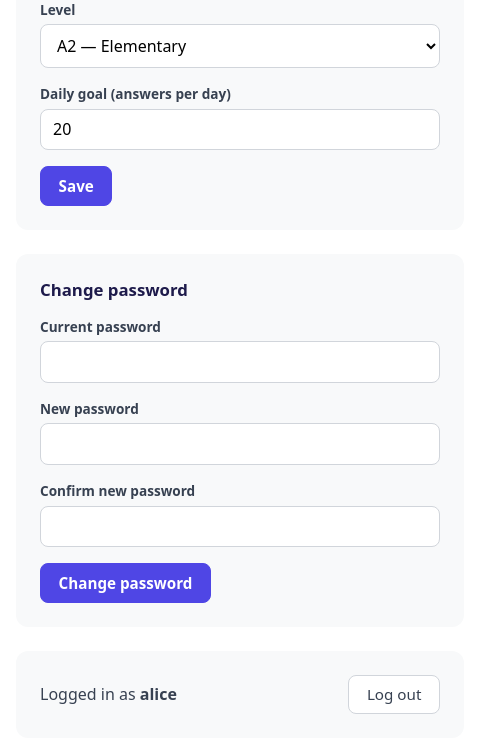
Test: top bar and settings › can log out from the settings page (the top bar hides it on phones)
The width and height of the screenshot is (481, 755).
(page scrolled)
expect the element named "Account" shows "Logged in as alice": met, box [16, 651, 464, 738]
Click the button "Log out": (394, 694) [348, 675, 440, 714]
(page scrolled)
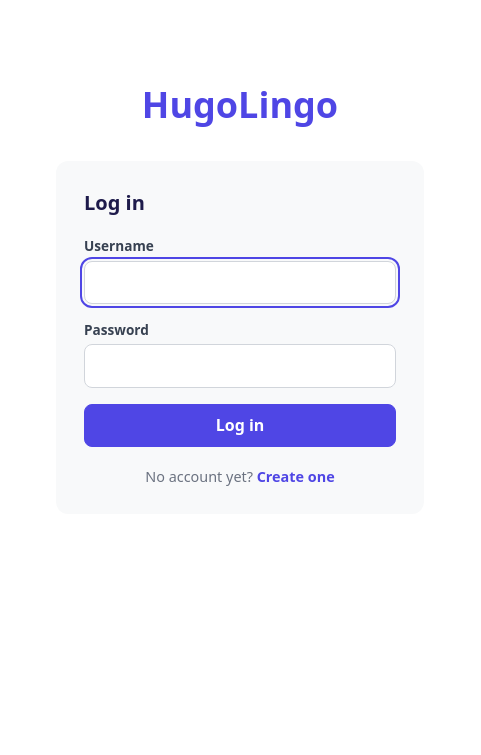
expect the button "Log in" is shown: met, box [84, 404, 396, 447]
